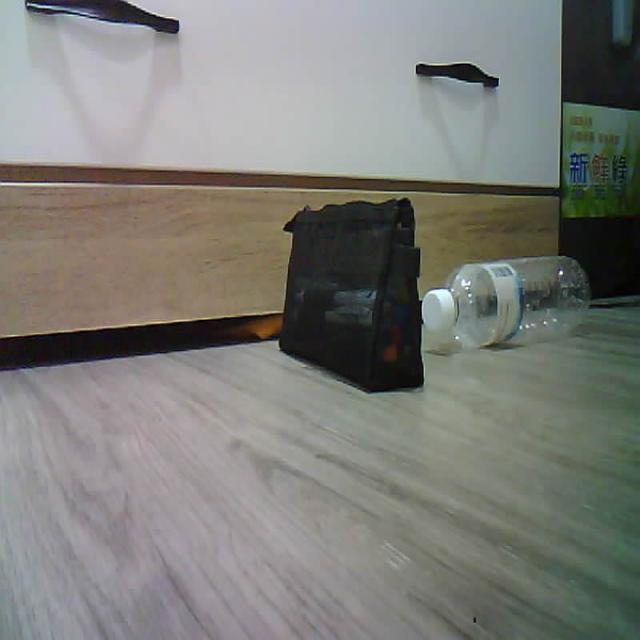bottle: (423, 256, 590, 352)
